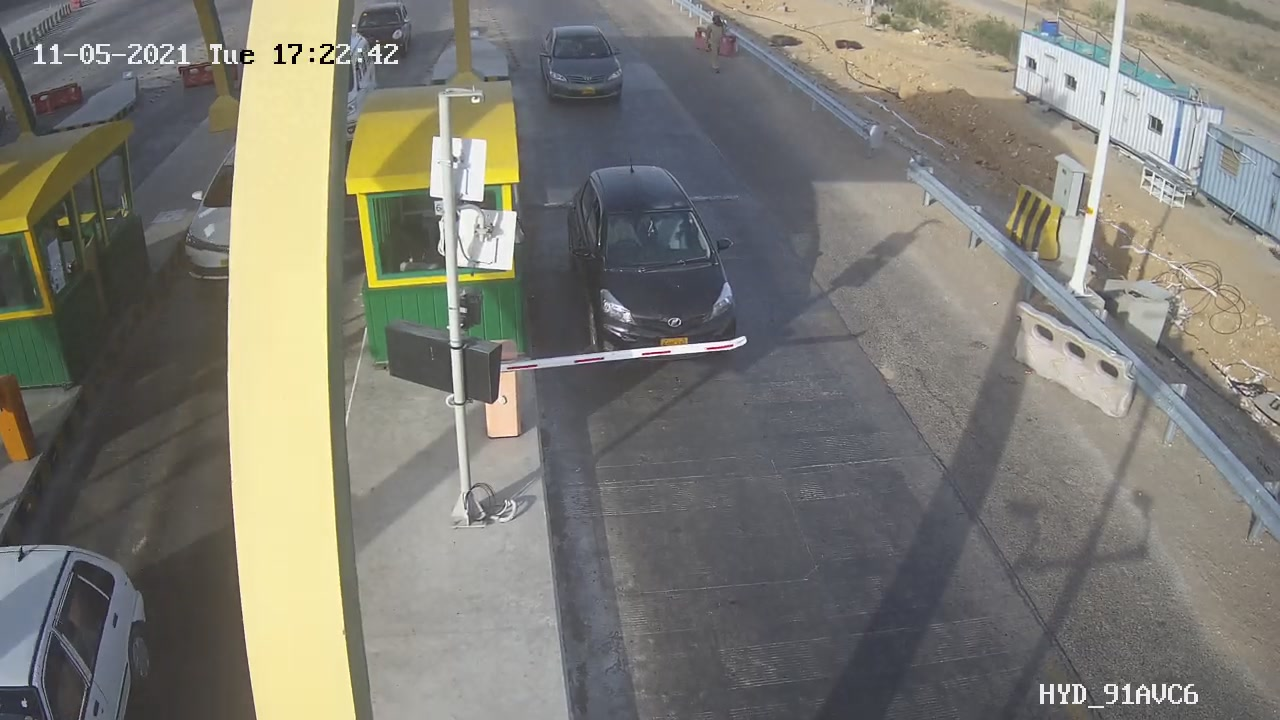F1: (550, 153, 759, 373), (527, 14, 635, 117)
